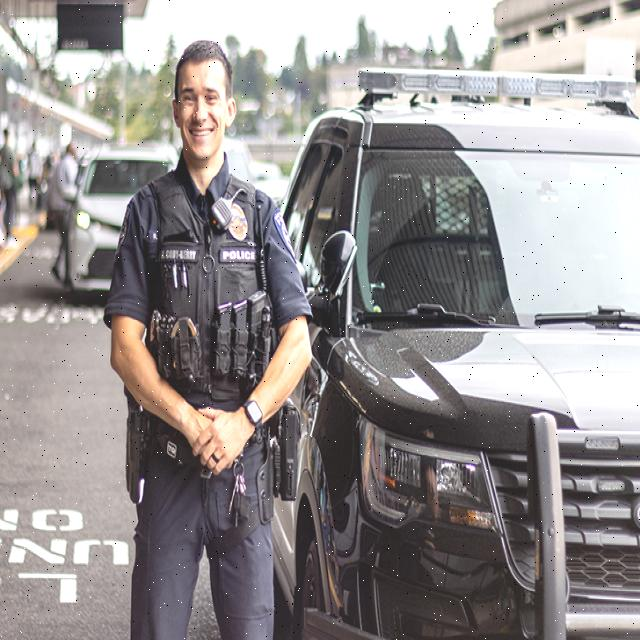police: (111, 28, 309, 640)
